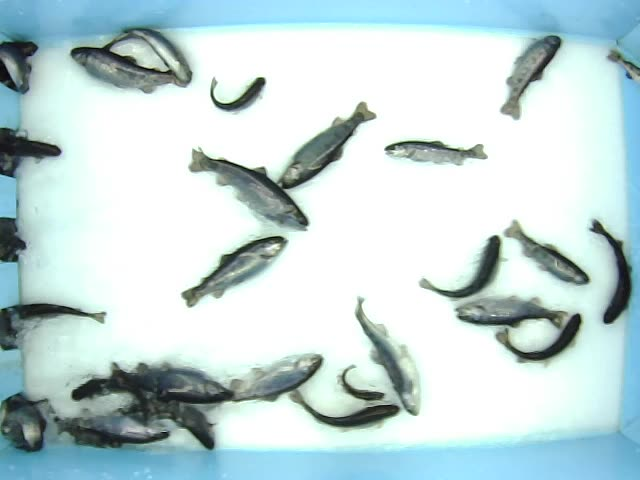fish: (188, 145, 310, 233), (275, 101, 378, 190), (354, 295, 423, 418), (179, 235, 289, 309), (203, 351, 326, 411), (502, 219, 592, 287), (68, 43, 183, 94), (100, 27, 194, 89), (417, 234, 503, 300), (499, 34, 563, 121), (106, 358, 230, 402), (288, 387, 401, 434), (587, 216, 635, 325), (492, 311, 582, 367), (114, 403, 219, 451), (452, 294, 570, 328), (55, 415, 173, 446), (383, 139, 489, 168), (209, 76, 267, 115), (337, 363, 387, 403)
